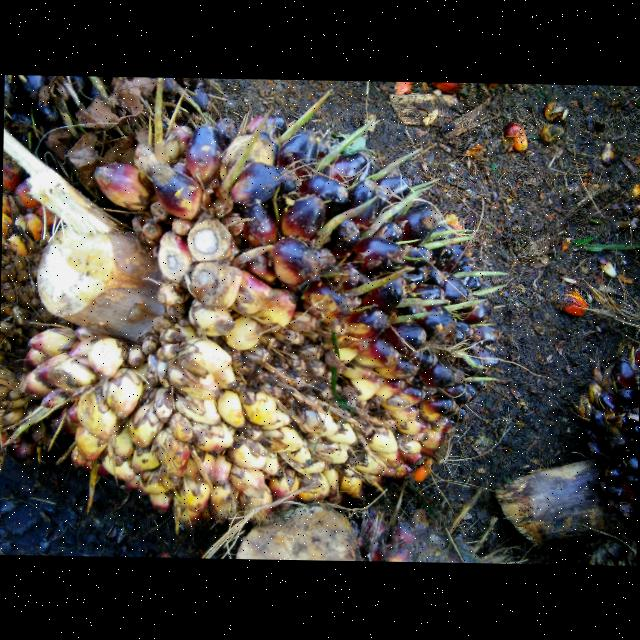Unripe: (14, 120, 498, 519)
